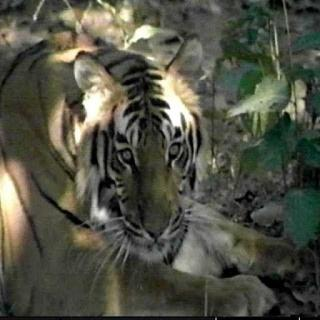Tiger: (0, 18, 299, 318)
